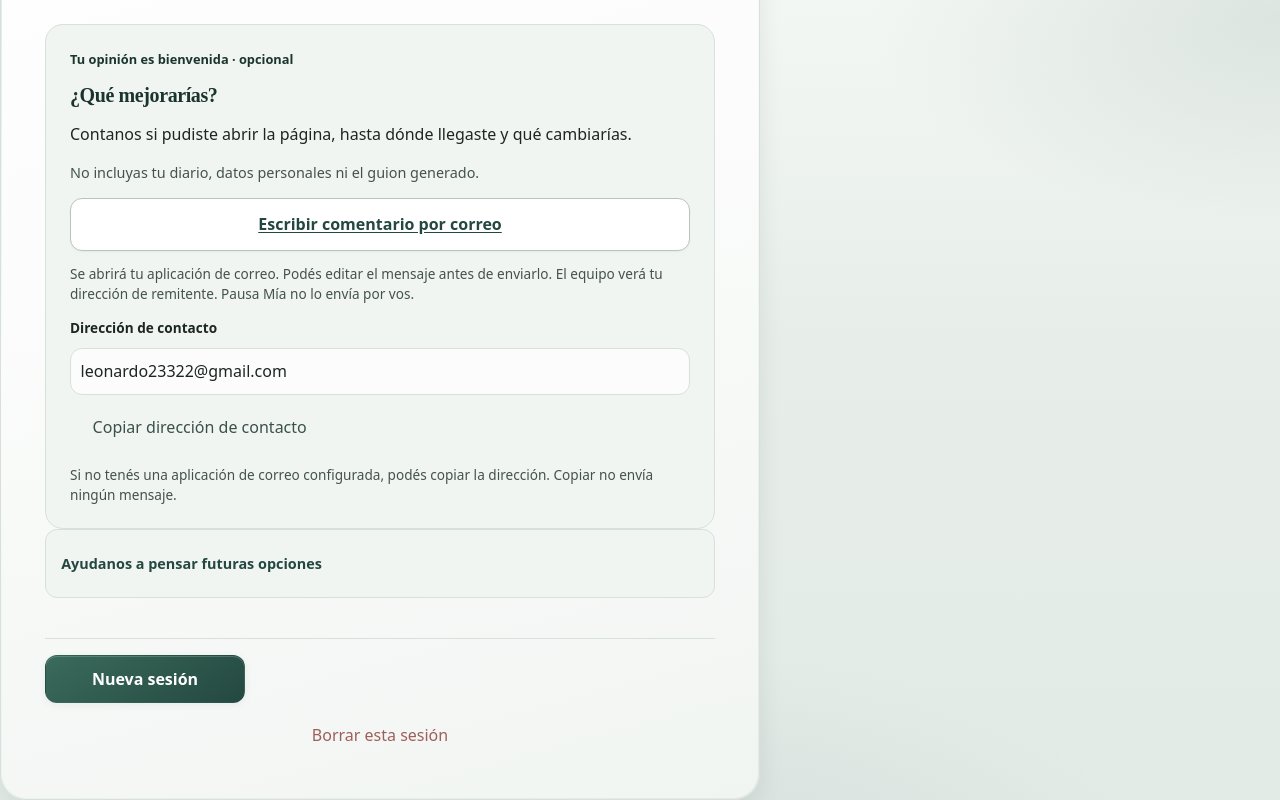
it: FeedbackStep repeat choice › keeps the price survey optional and clearly without a charge
(page scrolled)
Click the heading "Ayudanos a pensar futuras opciones". click: x=192, y=563
box: [61, 554, 322, 573]
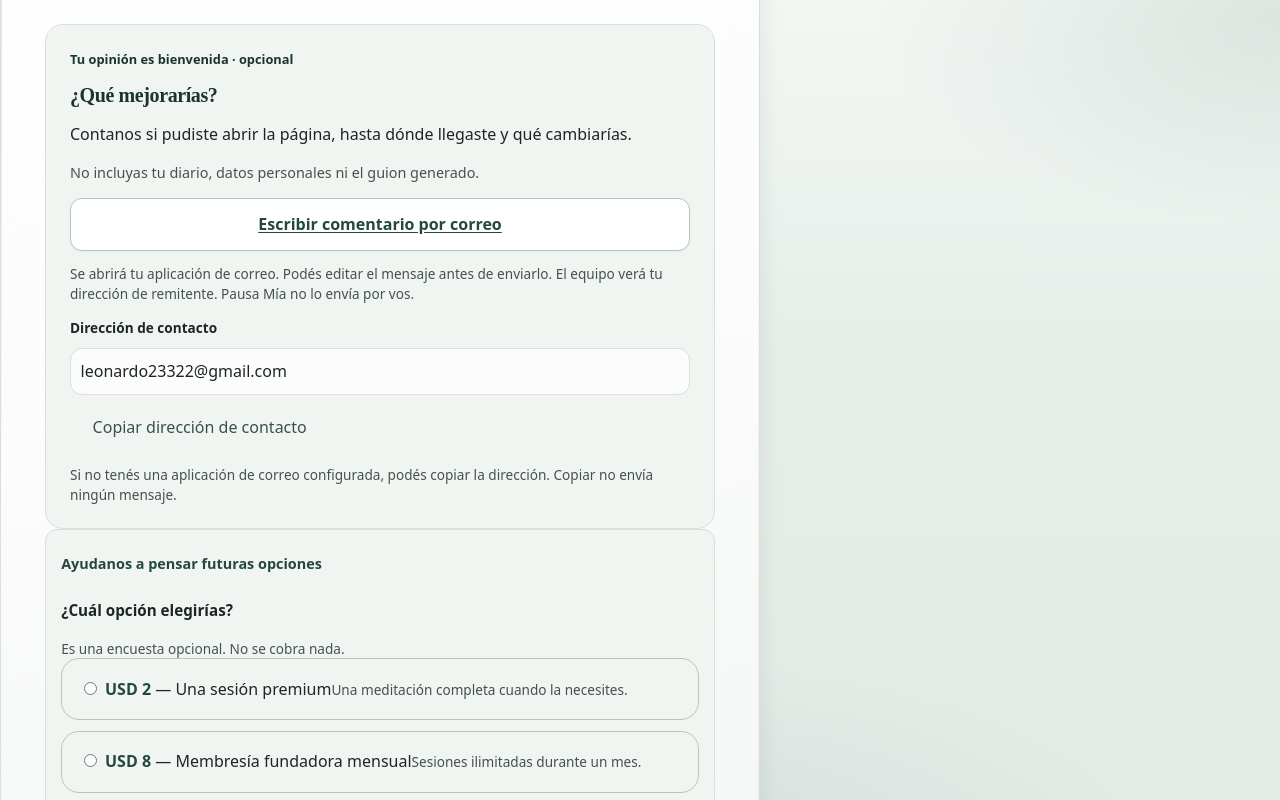
expect the text "Es una encuesta opcional. No se cobra nada." is shown: met, box [61, 639, 345, 658]
